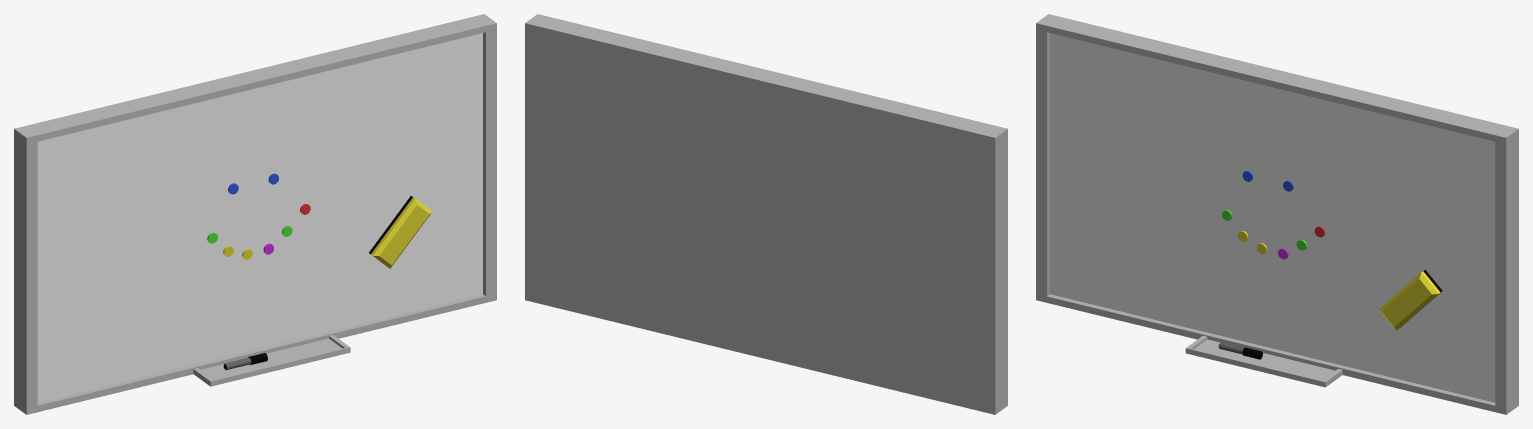
File: tablica.fbx
3 renders of one model, left to right at view 1: azimuth 30°, elevation 25°; view 2: azimuth 150°, elevation 25°; view 3: azimuth 330°, elevation 25°, orthographic.
Visible parts, largest first — view 1: tablica; view 2: tablica; view 3: tablica.
Boxes of the visible parts, x1,y1,x2,y2 form: tablica: (14,14,496,414); tablica: (525,14,1007,414); tablica: (1036,14,1518,414).
Bounding box in the file's own units: 355 × 200 × 38.95.
Materials: 1 (1 with a texture image).
